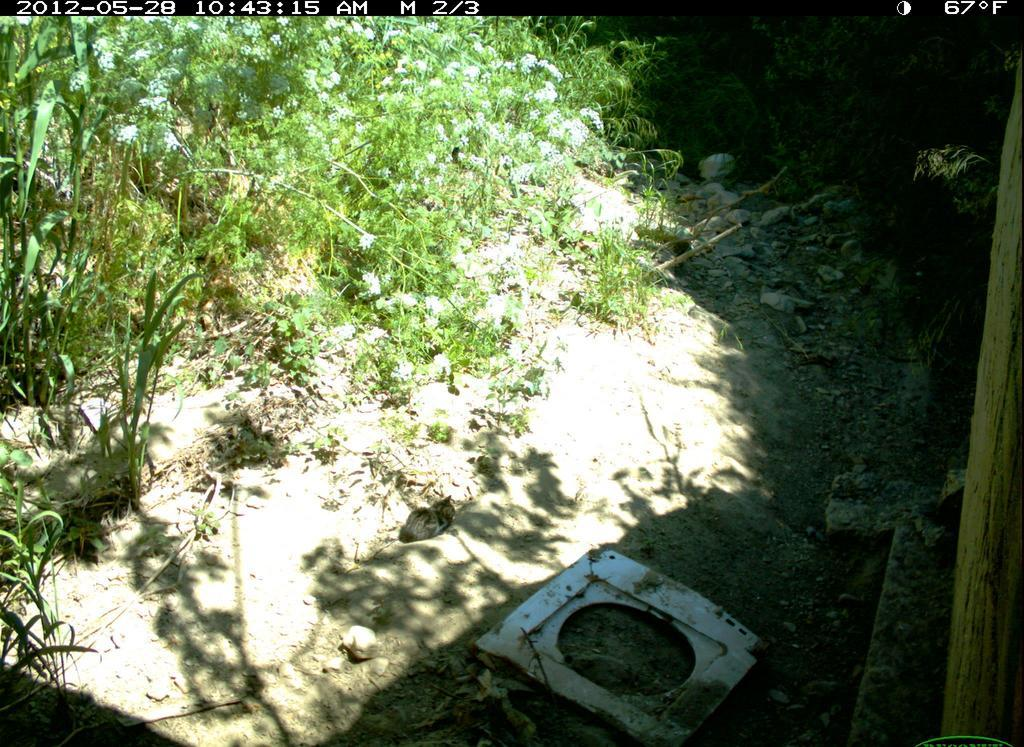cat: (393, 497, 483, 555)
